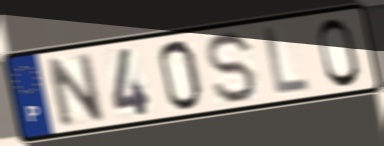0: (156, 37, 205, 112), (315, 15, 362, 89)
4: (110, 44, 154, 120)
L: (261, 24, 312, 96)
N: (42, 50, 108, 130)
S: (205, 30, 261, 107)
